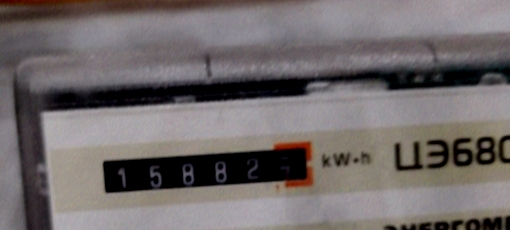1: (114, 164, 130, 189)
2: (244, 154, 260, 179)
5: (146, 161, 164, 188)
7: (277, 160, 292, 180)
8: (179, 160, 197, 187), (212, 157, 228, 183)
screen: (87, 132, 323, 208)
